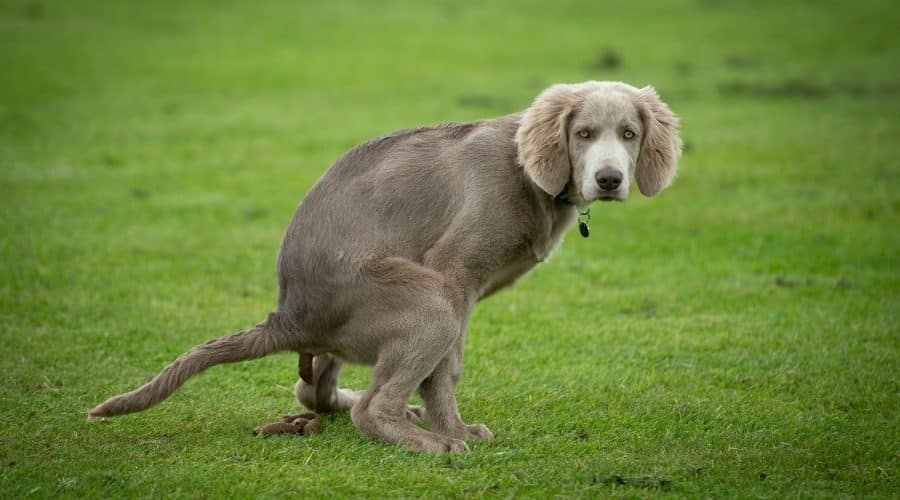dog_pooping: (88, 74, 688, 465)
